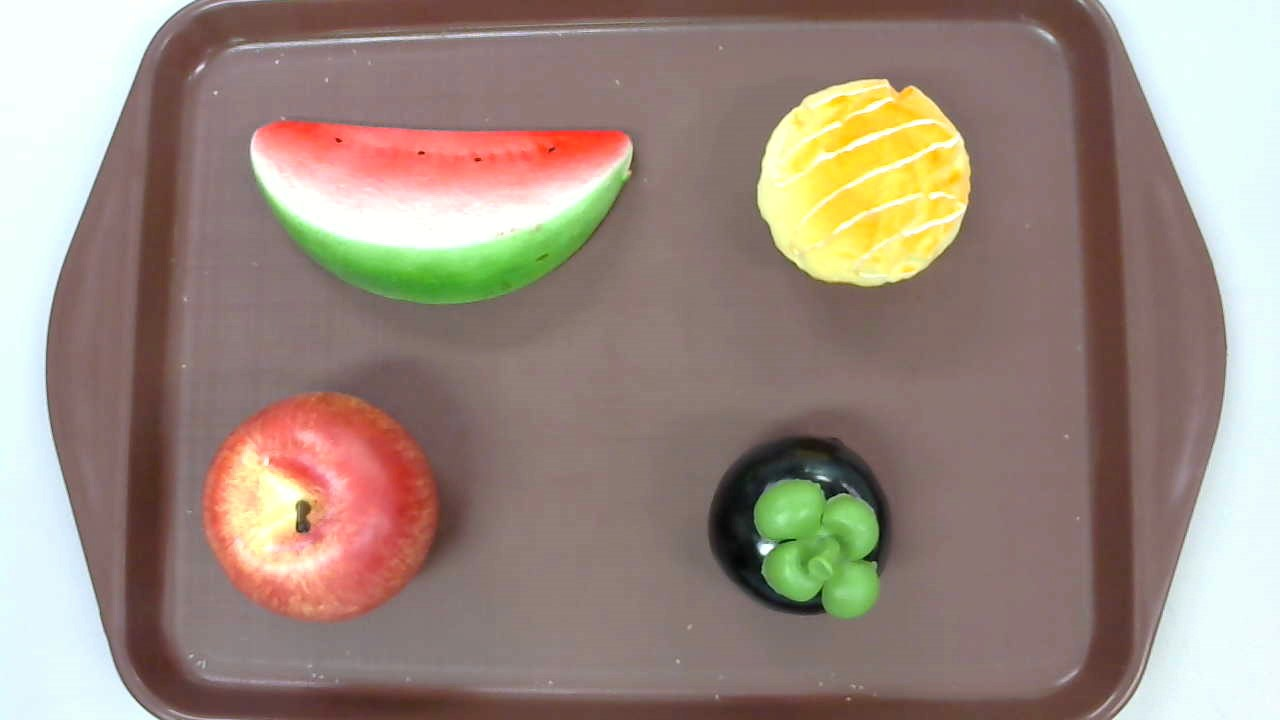cupcake: (753, 79, 972, 289)
mangosteen: (706, 436, 893, 622)
red apple: (201, 391, 439, 625)
water melon: (250, 118, 633, 307)
